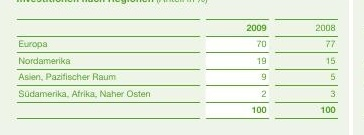table: (0, 0, 364, 135)
